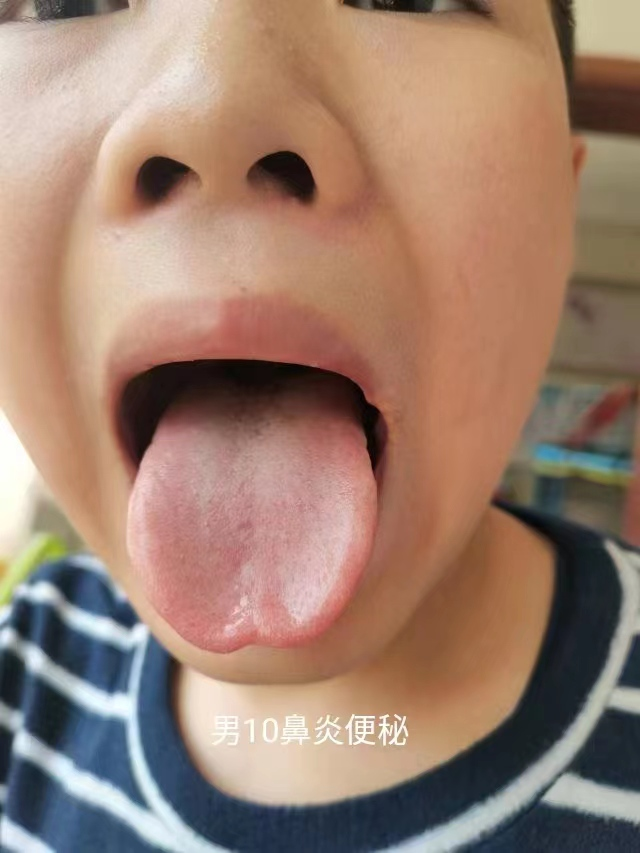baitaishe: (125, 385, 378, 655)
xinfeiao: (213, 624, 295, 656)
